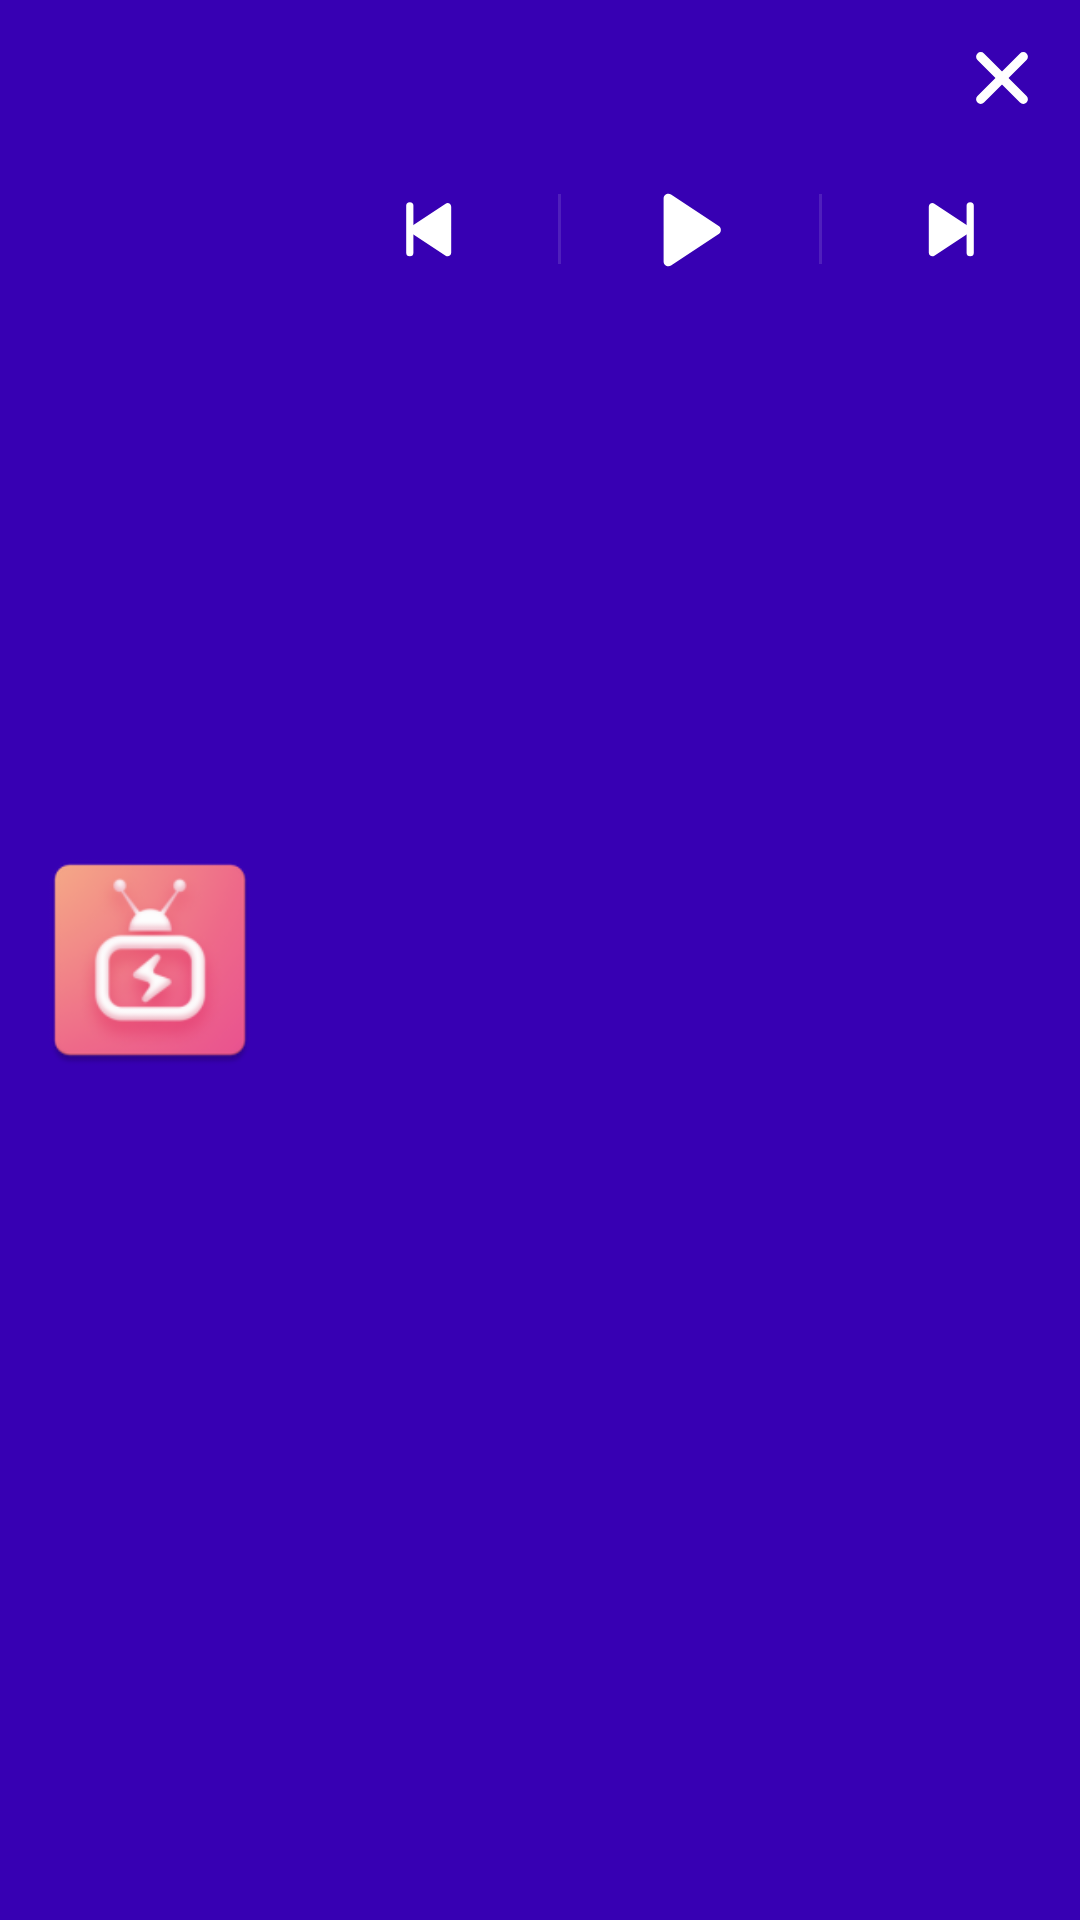

Named icons in this screenshot (1080*1920) and their bounding boxes, (x1, y1, x2, y2):
cross: (976, 52, 1028, 104)
play arrow: (663, 193, 721, 267)
skip next: (928, 202, 974, 257)
skip previous: (406, 202, 452, 257)
